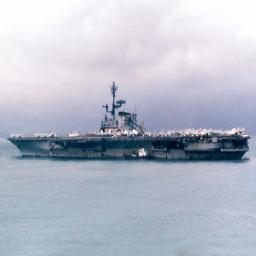Portanaves: (9, 81, 254, 162)
